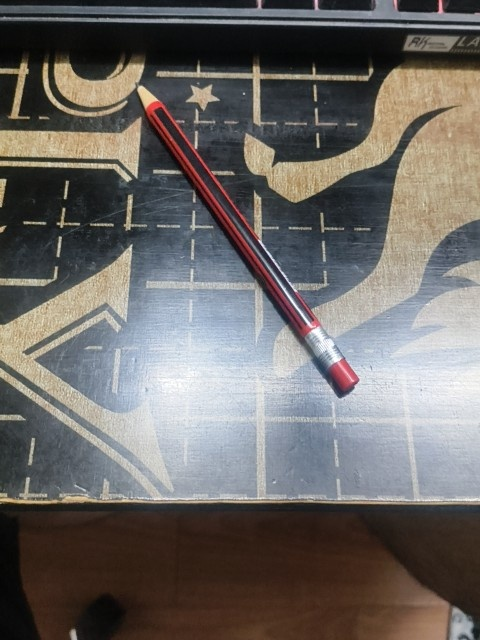pen: (136, 78, 363, 396)
